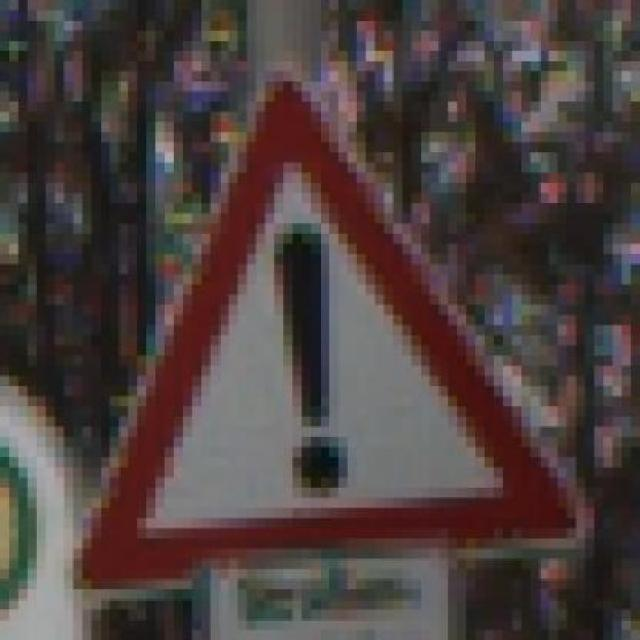Attention Please-: (36, 82, 604, 589)
